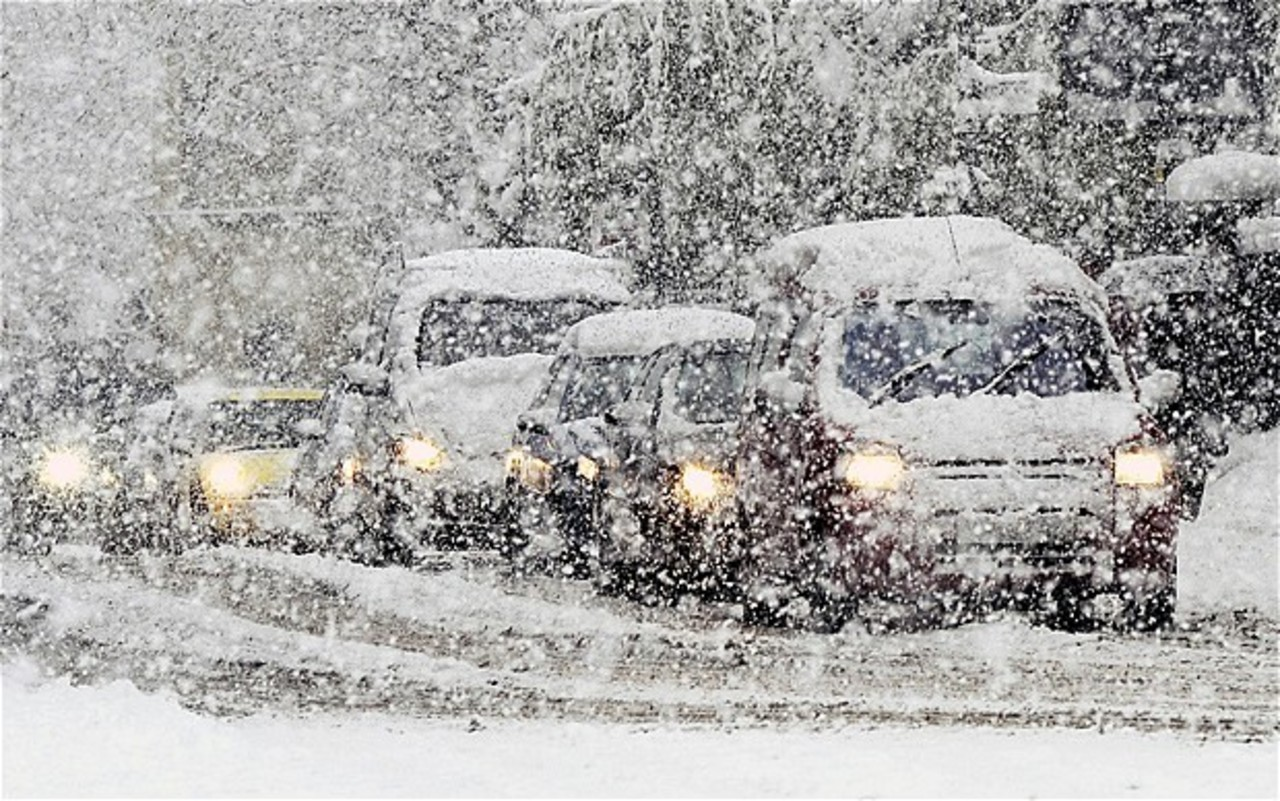car: (750, 227, 1179, 643), (356, 253, 540, 541), (592, 330, 760, 596), (516, 307, 632, 562), (160, 382, 318, 549), (294, 363, 385, 548)
